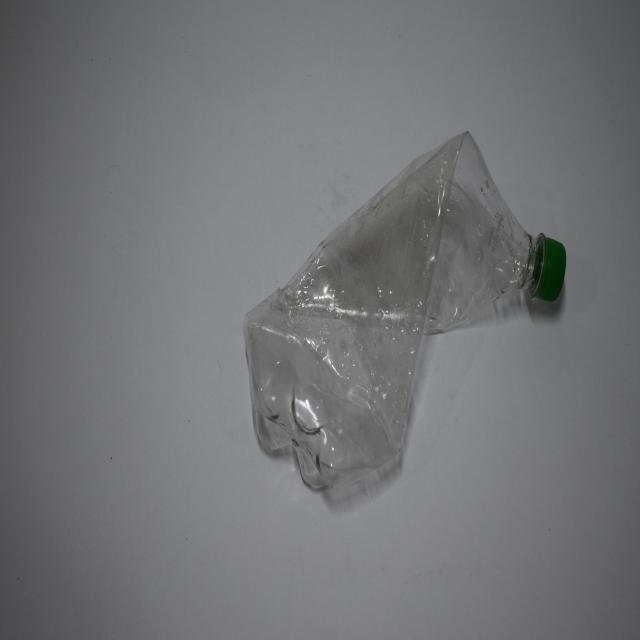bottle: (240, 119, 571, 510)
